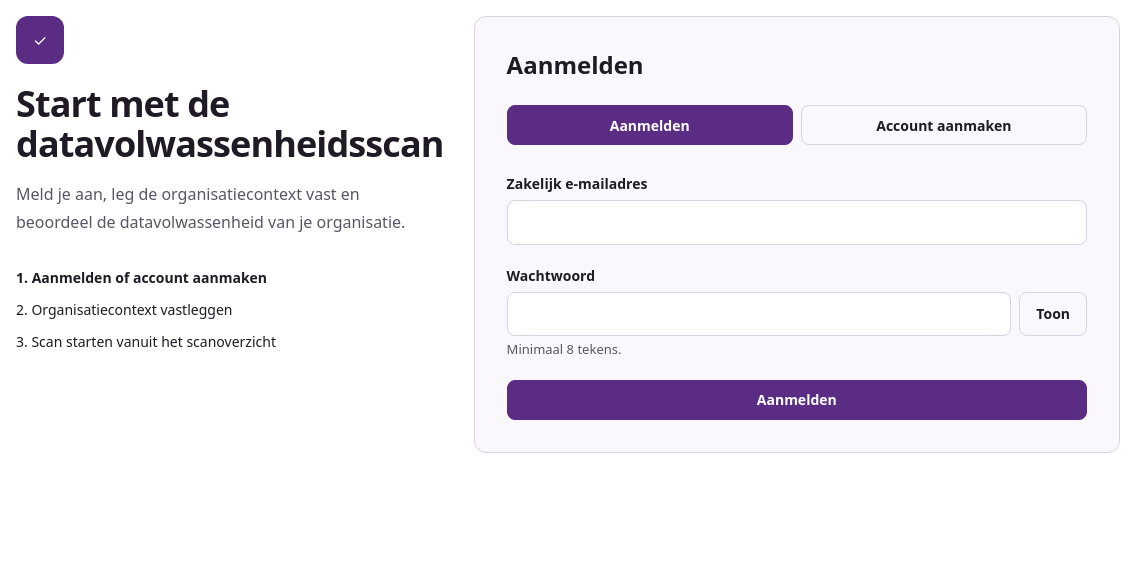
Scenario: AccountAccessComponent › shows a Dutch message for invalid credentials
Type "demo@pong.example" into the field with id "email" at (797, 222), box [507, 200, 1087, 244]
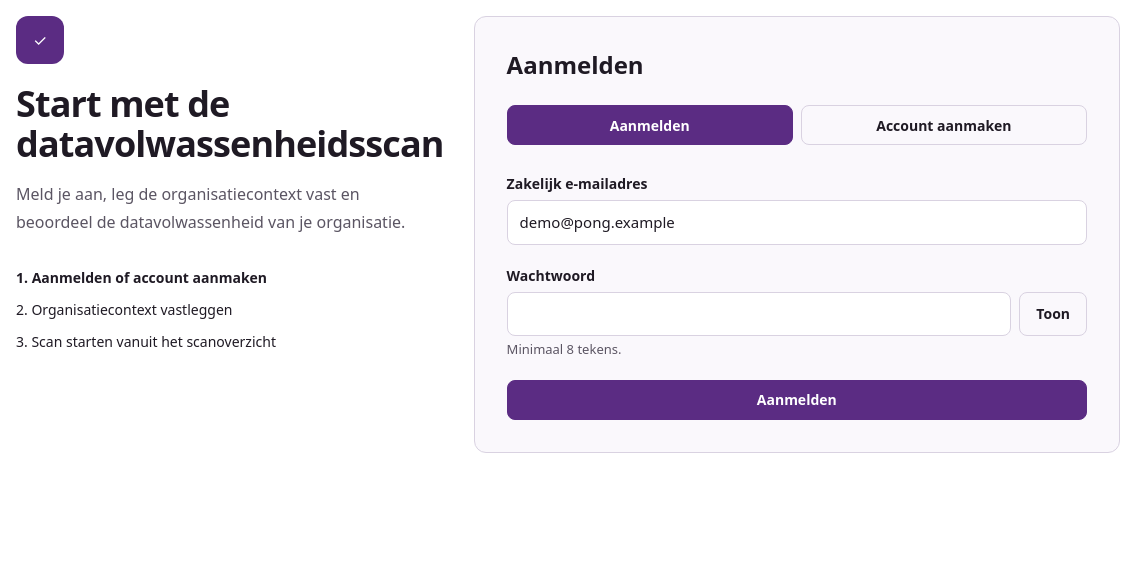
Type "foutwachtwoord" into the password field labelled "Wachtwoord" at (759, 314), box [507, 292, 1011, 336]
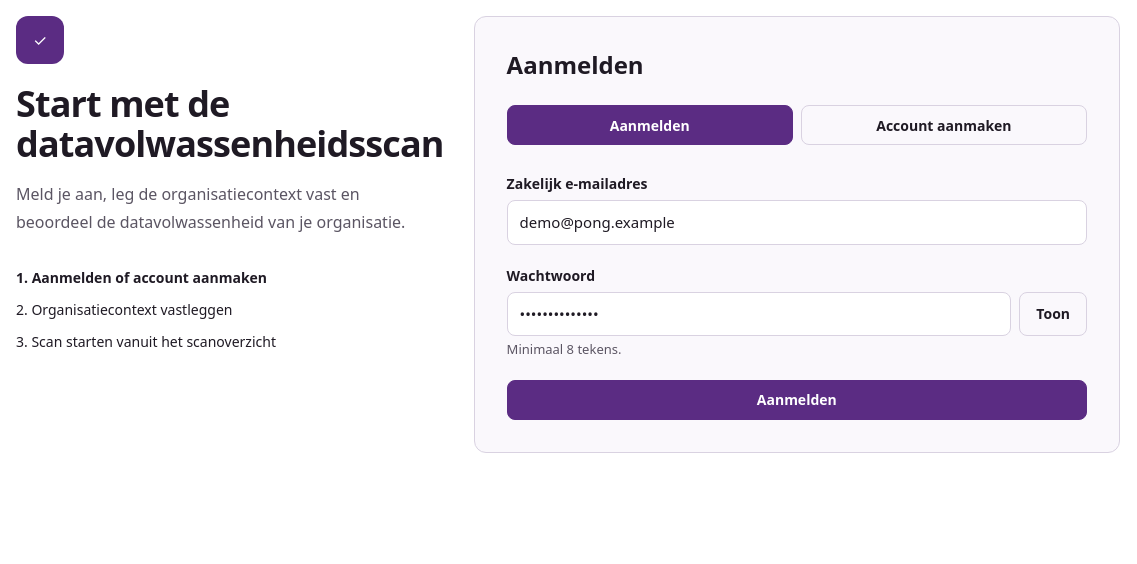
Submit the form, box [507, 173, 1087, 420]
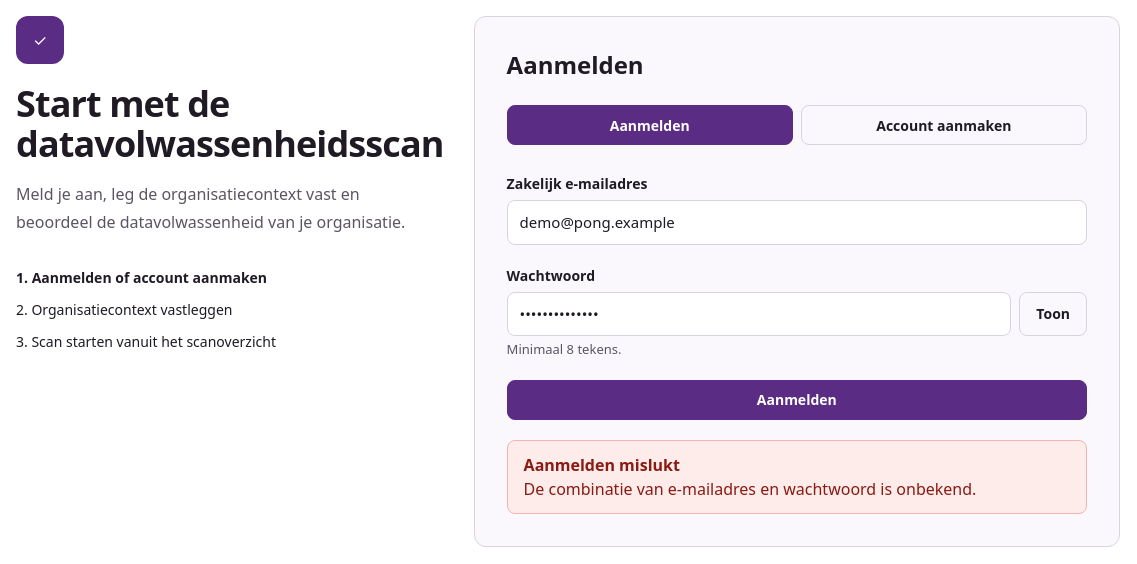
Result: the text "De combinatie van e-mailadres en wachtwoord is onbekend." is shown at [524, 478, 976, 500]
